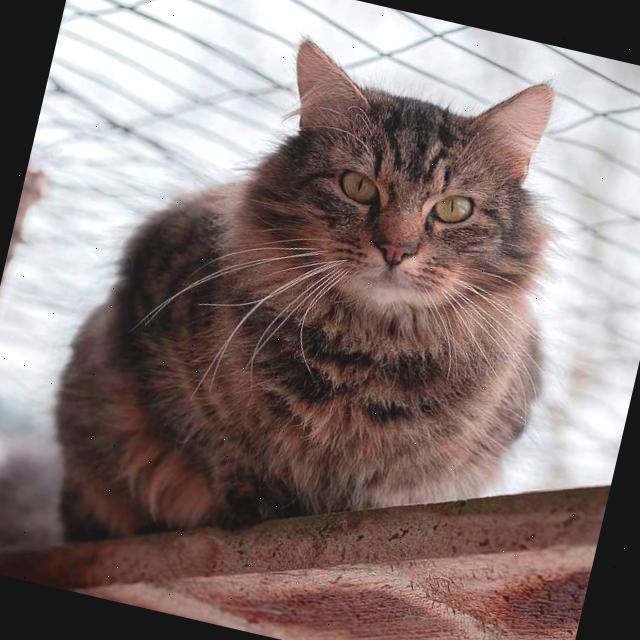domestic_long_hair_cat: (201, 0, 618, 395)
